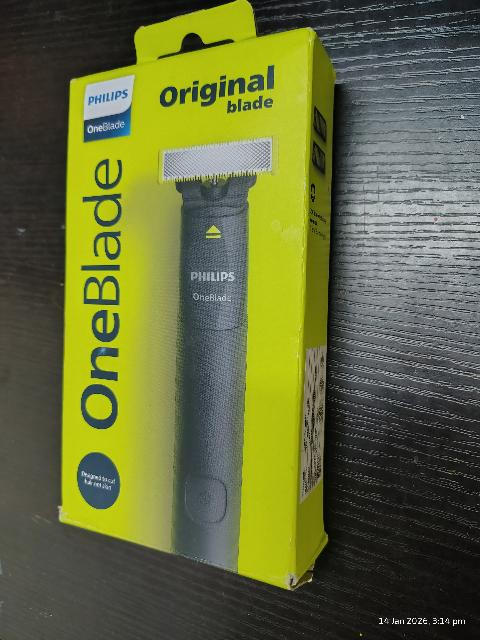phillips oneblade: (59, 4, 337, 595)
